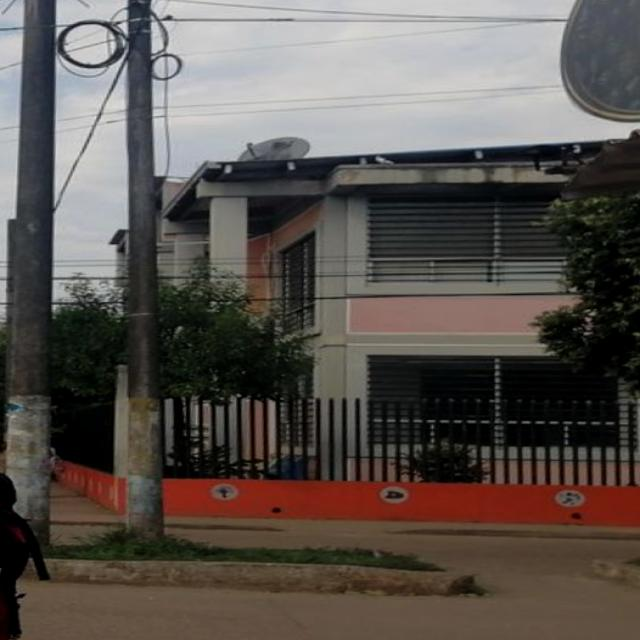fachada: (159, 143, 627, 460)
poste: (8, 0, 55, 542), (127, 0, 164, 537), (5, 219, 17, 397)
